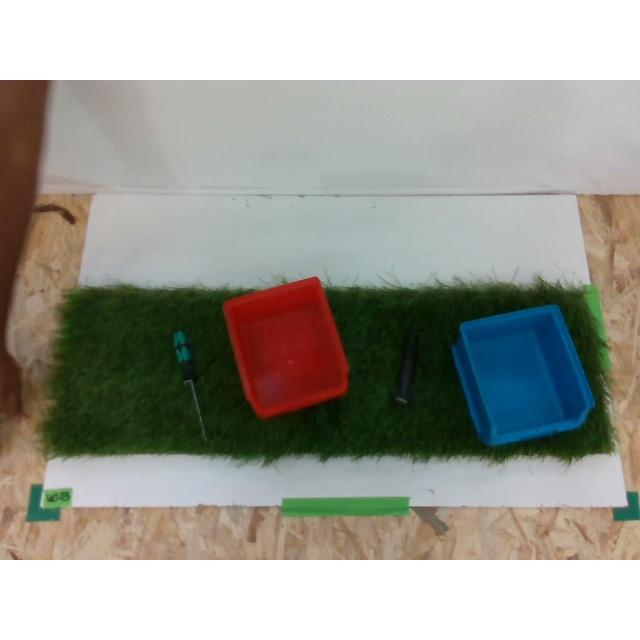M20_100: (392, 329, 418, 405)
Screwdriver: (172, 329, 208, 443)
container_box_blue: (452, 305, 596, 445)
container_box_red: (224, 277, 348, 418)
